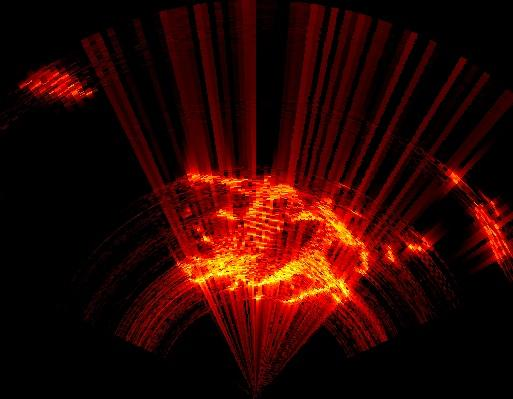shipwreck: (185, 173, 419, 303)
